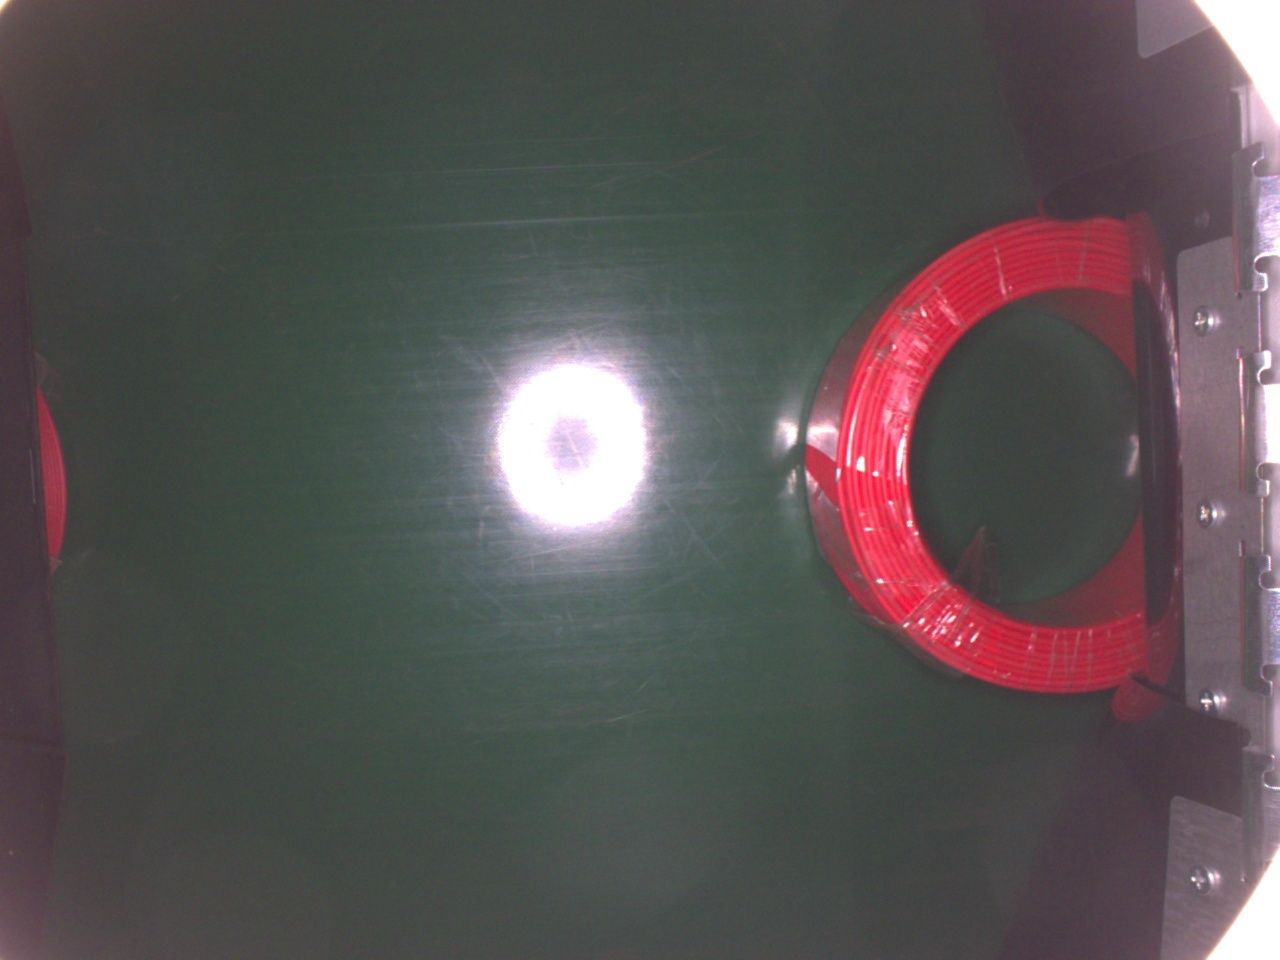red: (801, 212, 1152, 696)
